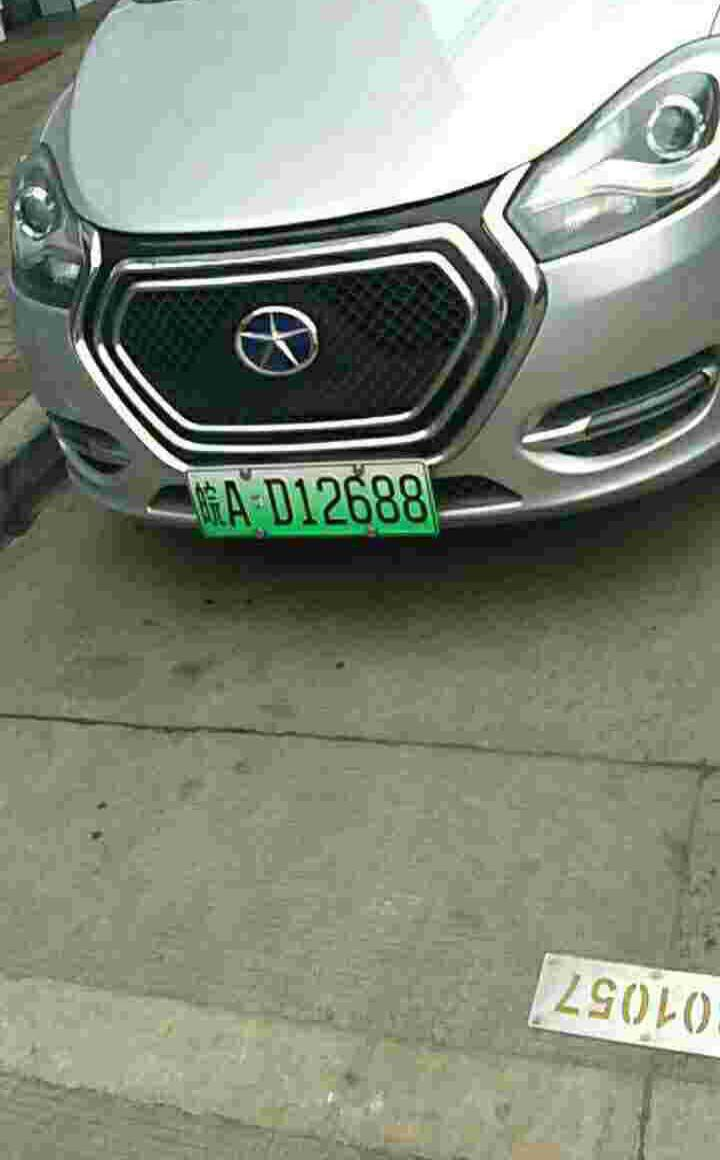car_green: (185, 462, 440, 549)
